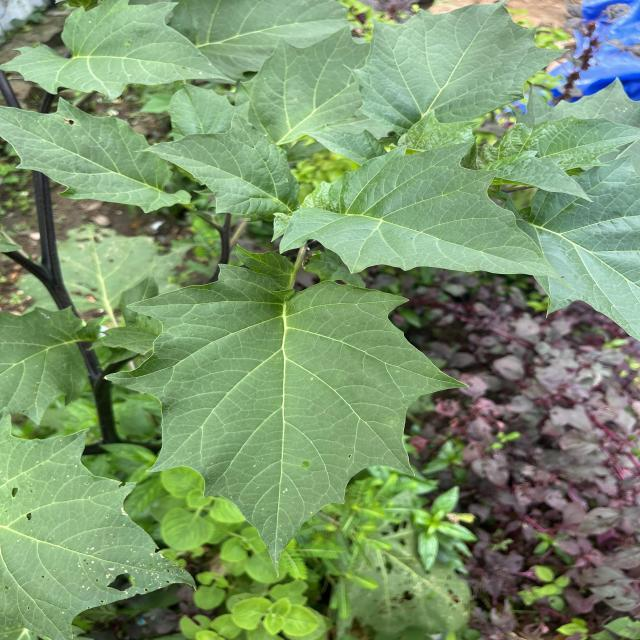Datura metal linn: (100, 258, 474, 582), (274, 135, 582, 292), (339, 0, 572, 132), (1, 0, 240, 103), (1, 92, 196, 218), (129, 109, 302, 224)
